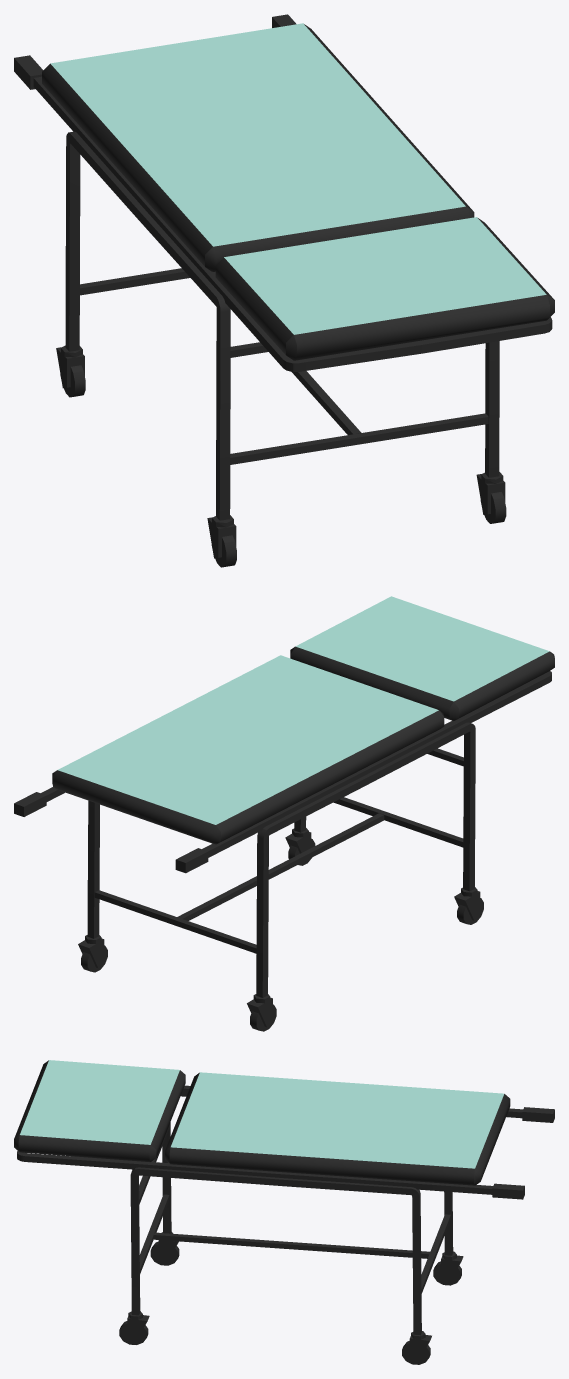
The model's file is KATALKANOTRUP.fbx.
3 renders of one model, top to bottom at view 1: azimuth 30°, elevation 25°; view 2: azimuth 150°, elevation 25°; view 3: azimuth 270°, elevation 25°, orthographic. The views are drawn at different scales.
Parts seen in each view (by area): view 1: KATALKA; view 2: KATALKA; view 3: KATALKA.
Part boxes in pixels (x1,y1,x2,y2): KATALKA: (14, 14, 554, 567); KATALKA: (14, 596, 554, 1031); KATALKA: (14, 1060, 554, 1364).
Size of the model in its own units: 434 by 346 by 855.
